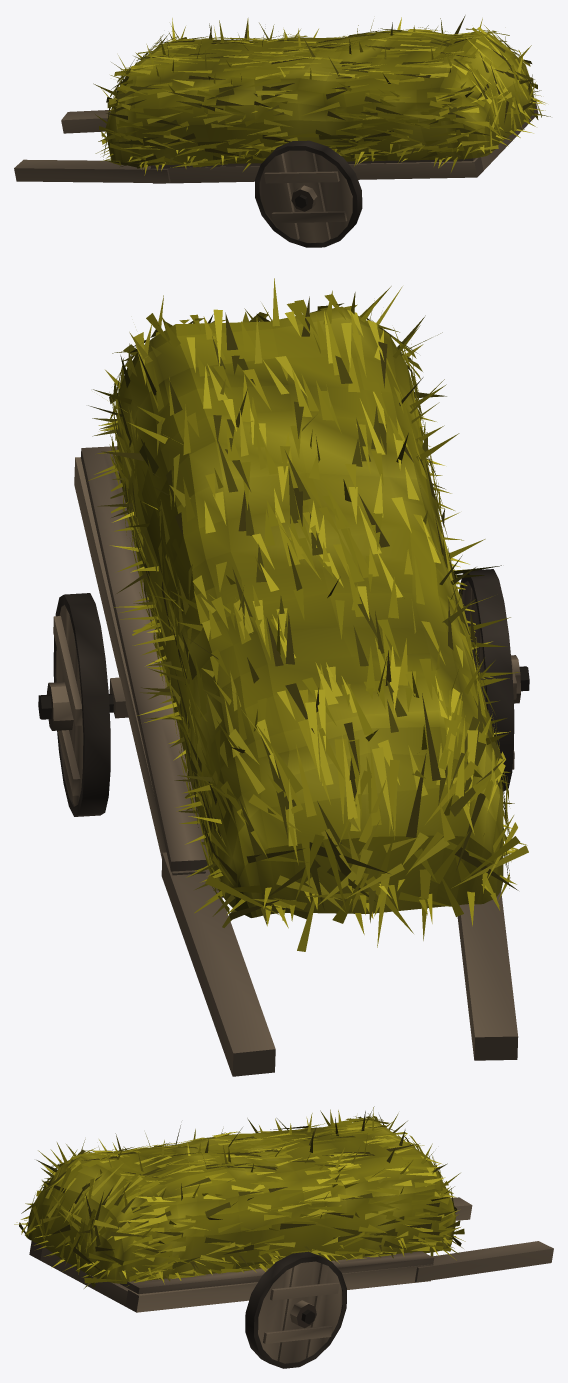
Rendered from Aracart02.glb.
3 renders of one model, top to bottom at view 1: azimuth 30°, elevation 25°; view 2: azimuth 150°, elevation 25°; view 3: azimuth 270°, elevation 25°, orthographic. The views are drawn at different scales.
Visible parts, largest first — view 1: Aracart02; view 2: Aracart02; view 3: Aracart02.
Part boxes in pixels (x1=…): Aracart02: x1=14, y1=15, x2=550, y2=247; Aracart02: x1=38, y1=278, x2=529, y2=1076; Aracart02: x1=14, y1=1106, x2=553, y2=1368.
Size of the model in its own units: 4.23 by 2.18 by 4.97.
